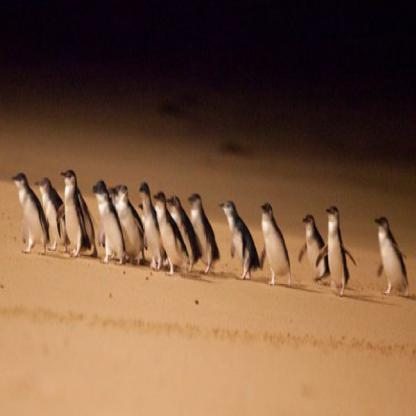Penguin: (370, 207, 412, 327), (7, 161, 51, 272), (215, 195, 264, 294), (147, 183, 188, 300), (256, 190, 294, 313), (54, 166, 91, 280), (162, 186, 202, 290), (314, 205, 354, 303), (92, 178, 127, 288), (188, 180, 224, 280), (132, 175, 164, 286), (296, 209, 333, 297), (31, 172, 68, 254)
